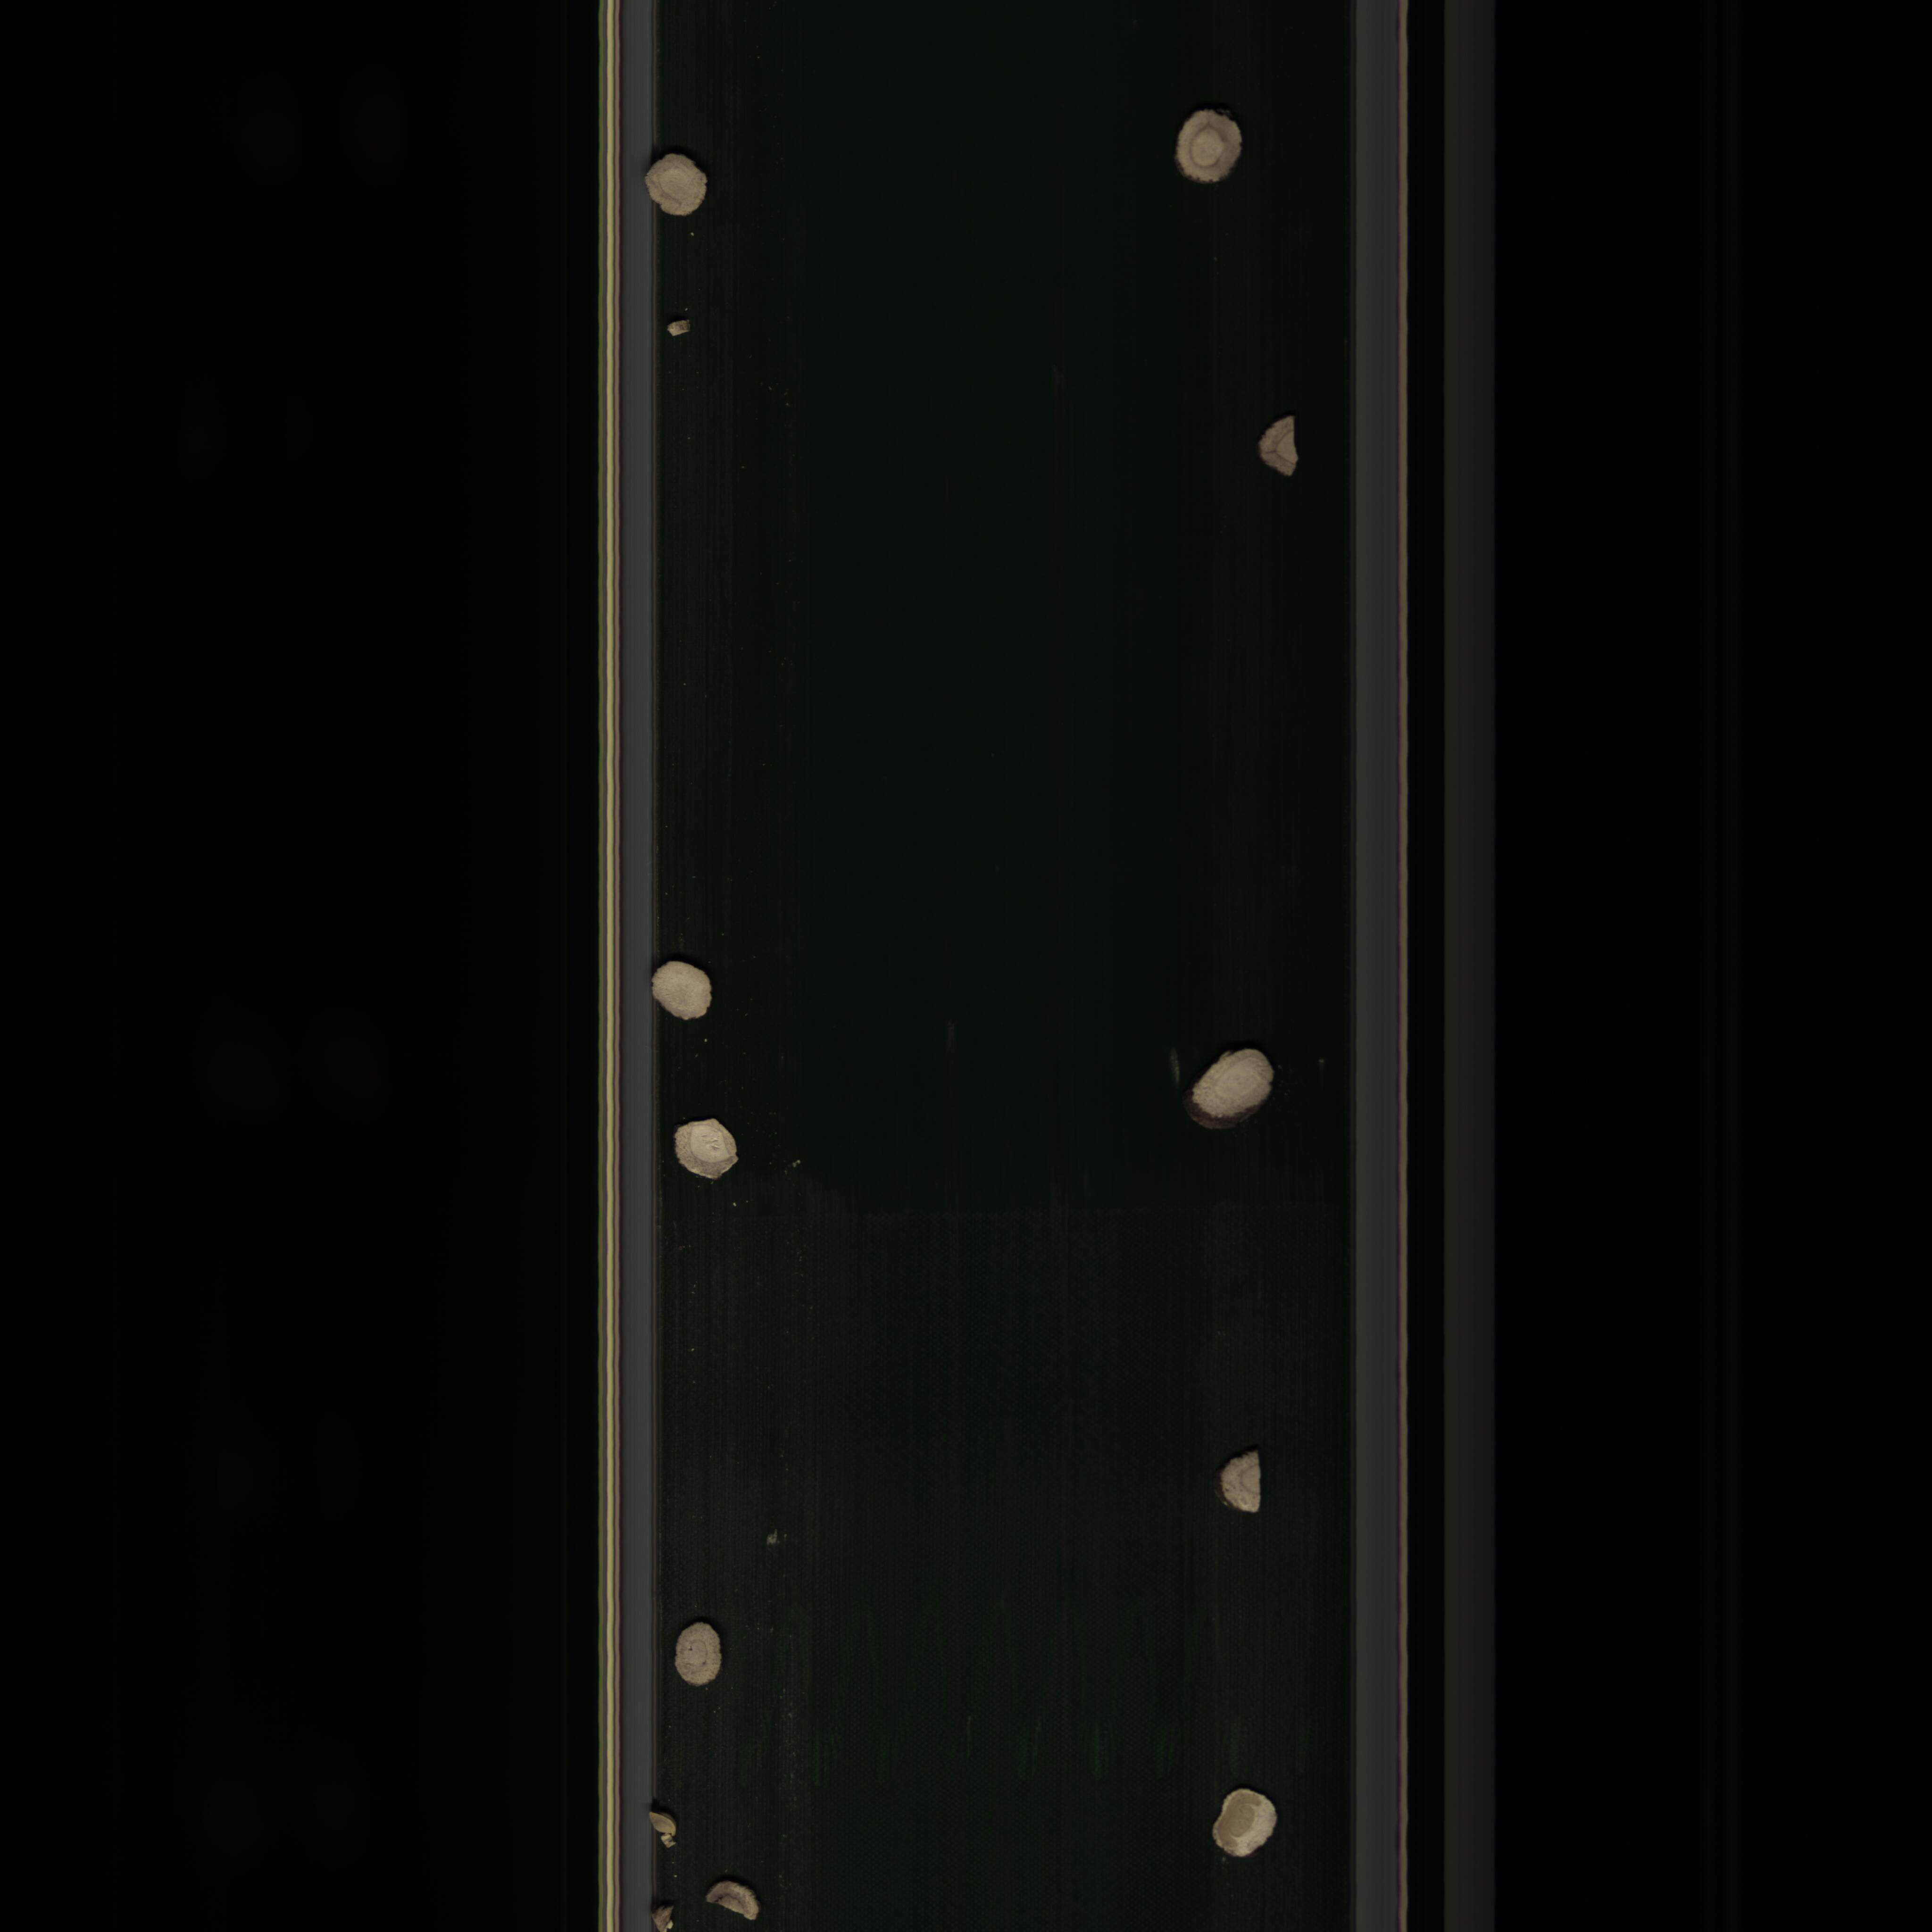bark: (699, 1874, 763, 1925)
debris: (663, 1116, 747, 1187), (1210, 1444, 1276, 1522), (1253, 405, 1309, 485), (642, 1805, 685, 1851), (663, 318, 697, 345)
distortion: (1175, 1039, 1281, 1141), (1171, 103, 1254, 193)
